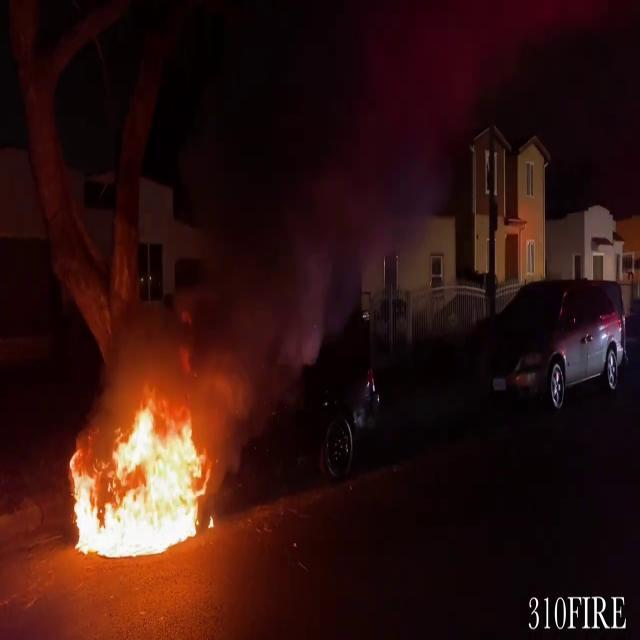Fire: (64, 394, 218, 562)
Smoke: (148, 0, 472, 398)
